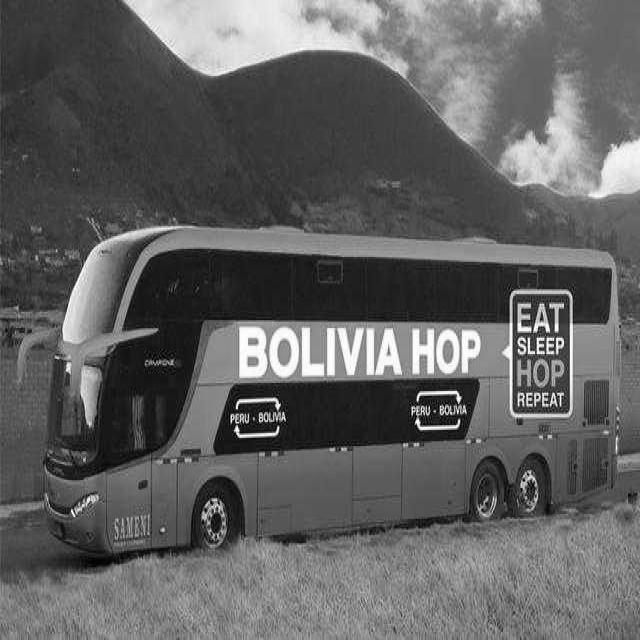Bus: (18, 226, 620, 555)
